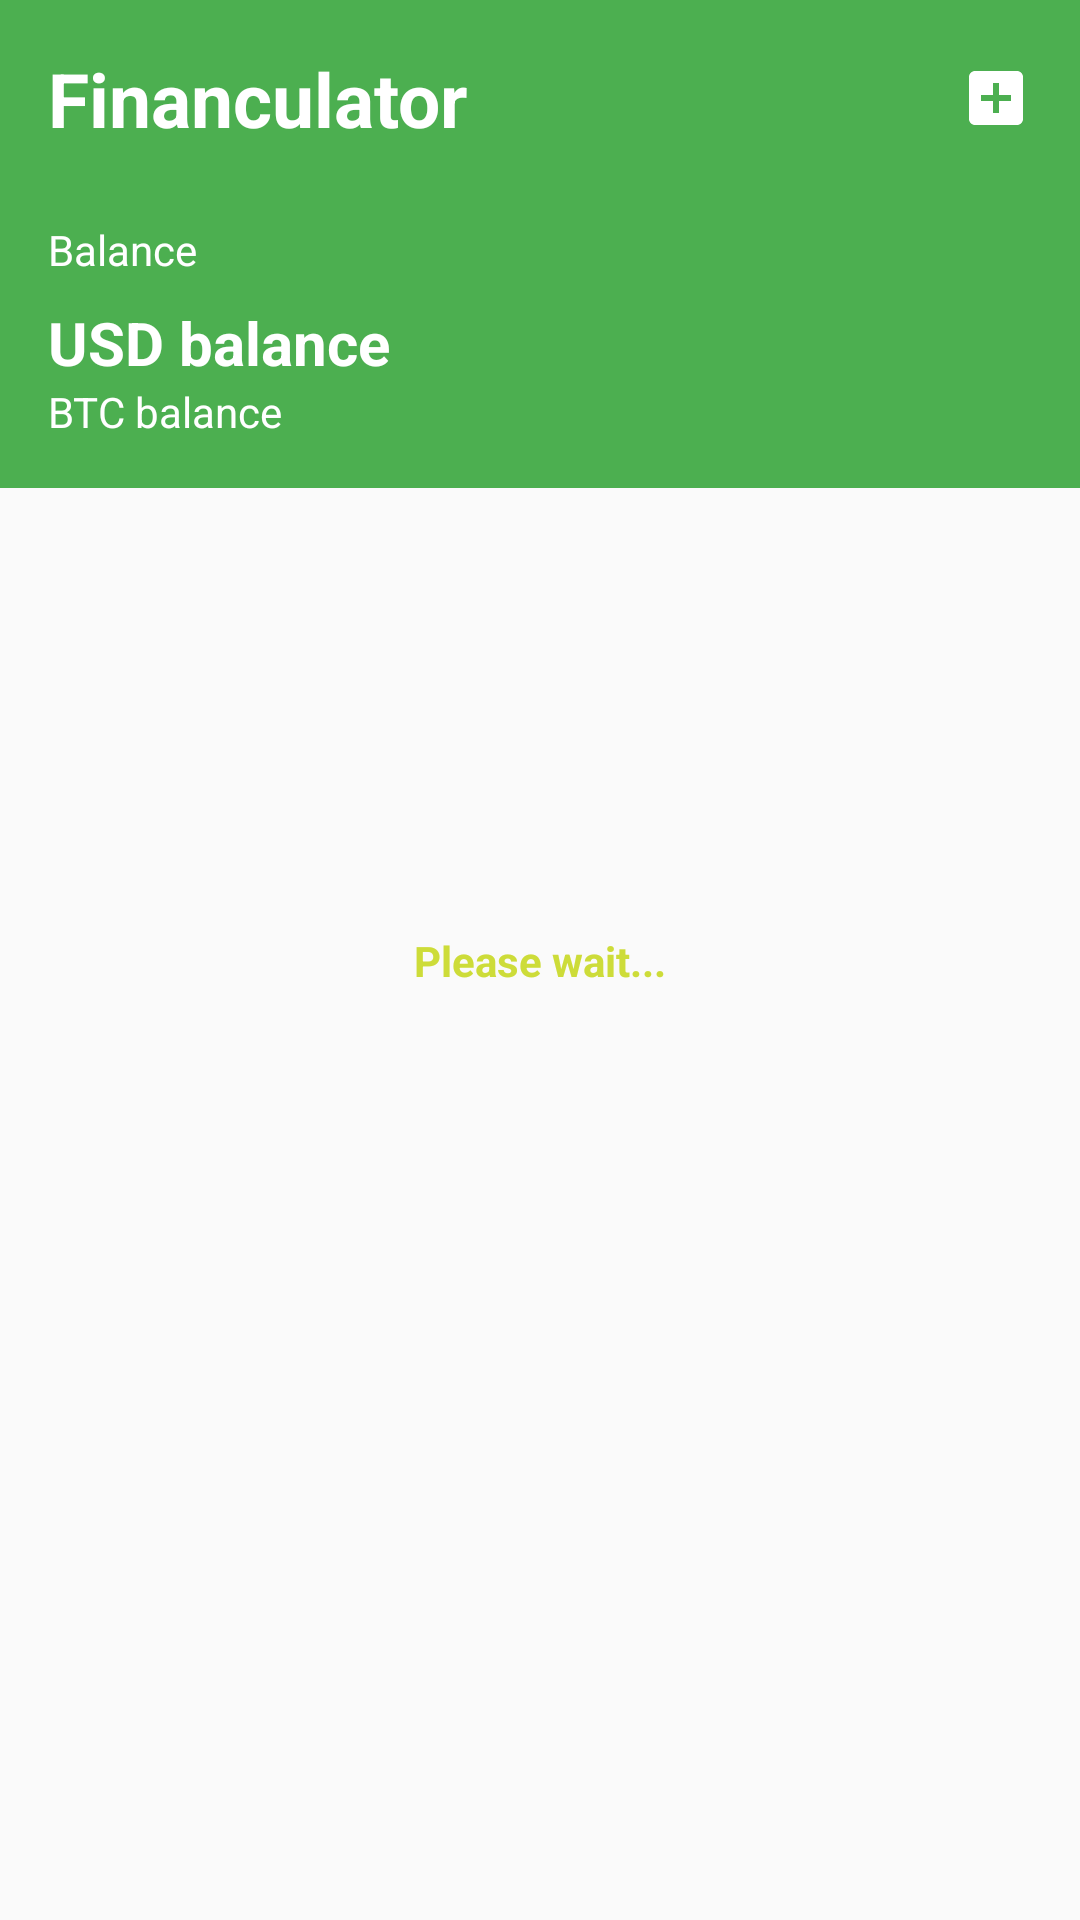

Locate icon controls on the screen. Image size 1080 x 1920, boxes as [x1,y1,x2,y2].
add box: [969,71,1023,125]
